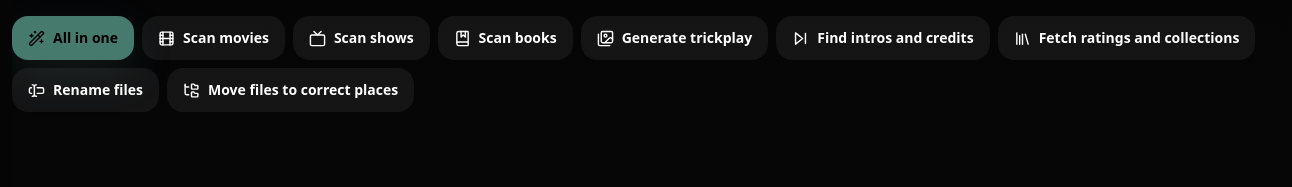
Test case: the Library Maintenance action group › says the work was queued, never that it finished
Click the button "All in one": (73, 38) 12,16 -> 134,60
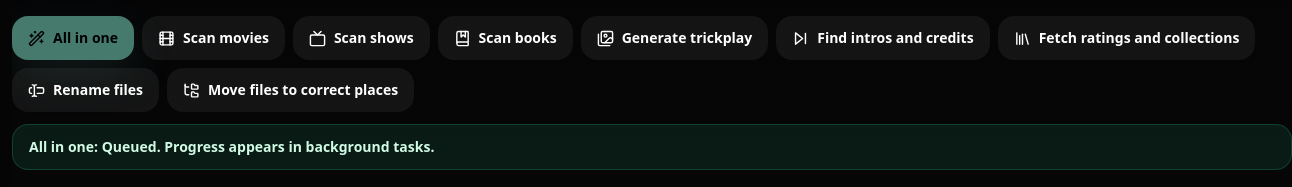
Expected: the message shows "Queued. Progress appears in background tasks.", 29,137 -> 434,156
